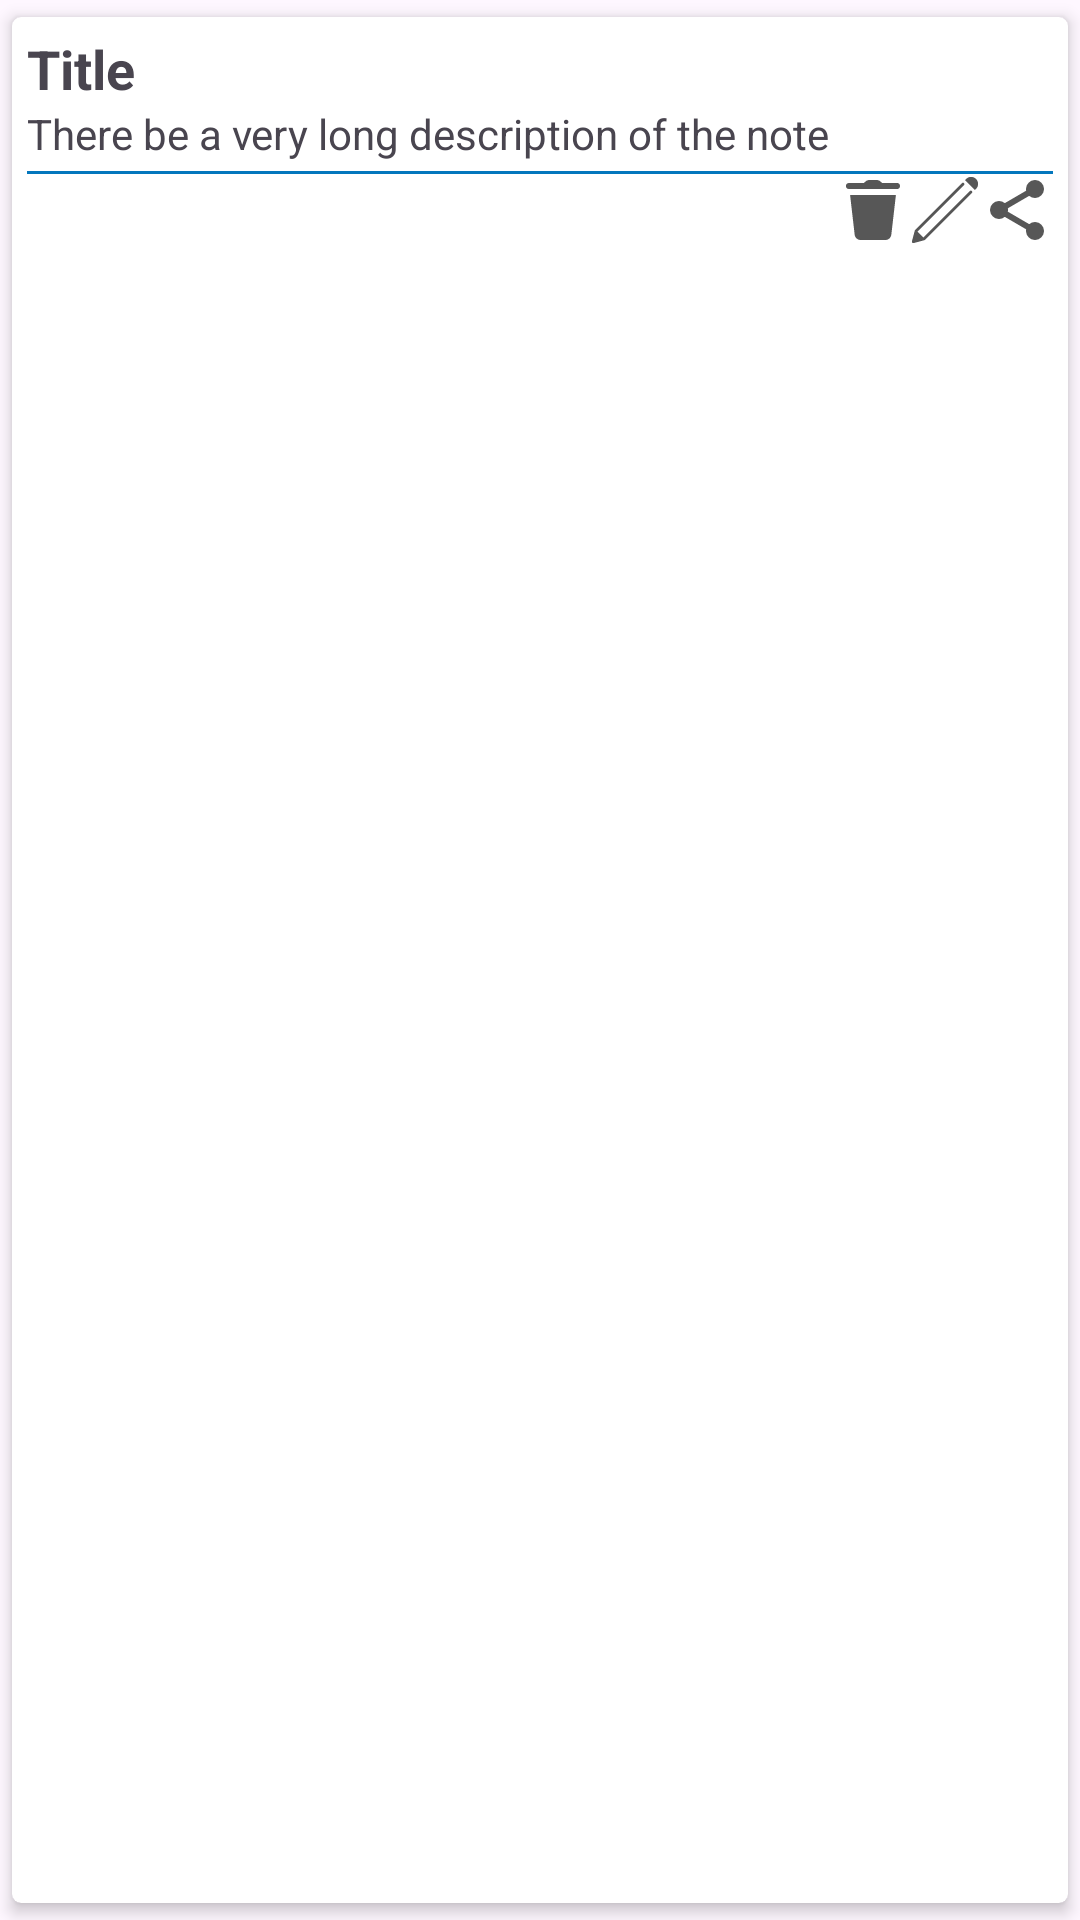

Screen size 1080 × 1920. Icon name, then its box in pixels as (x1, y1, x2, y2):
deletes note: (846, 180, 900, 240)
edit: (912, 177, 978, 243)
share: (990, 180, 1044, 240)
